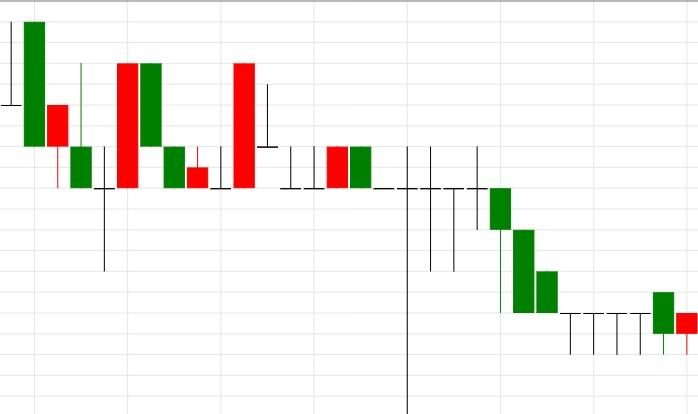morning_star_rise: (1, 22, 138, 272)
